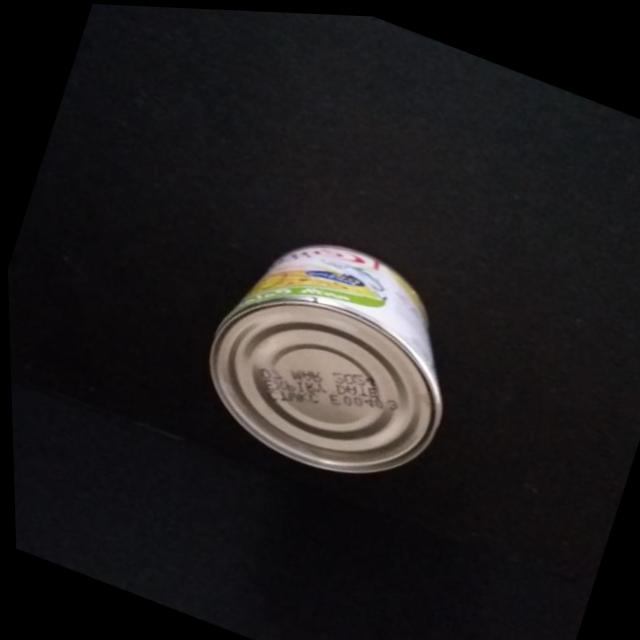metal: (210, 245, 441, 472)
